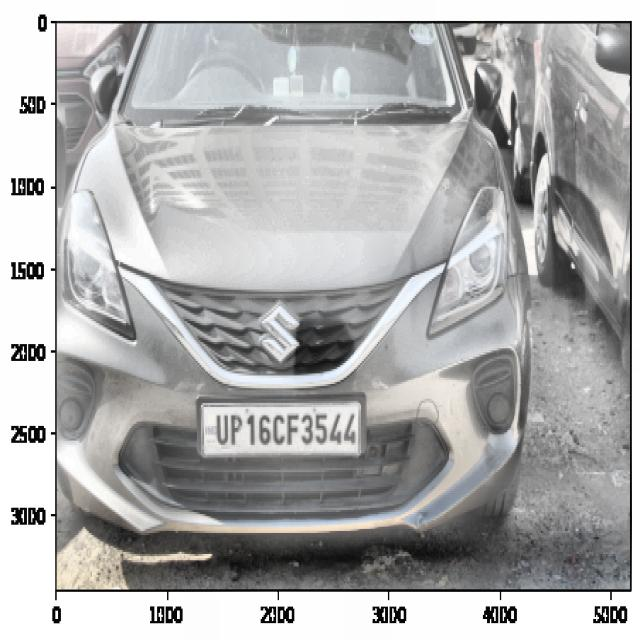license_plate: (206, 405, 361, 450)
